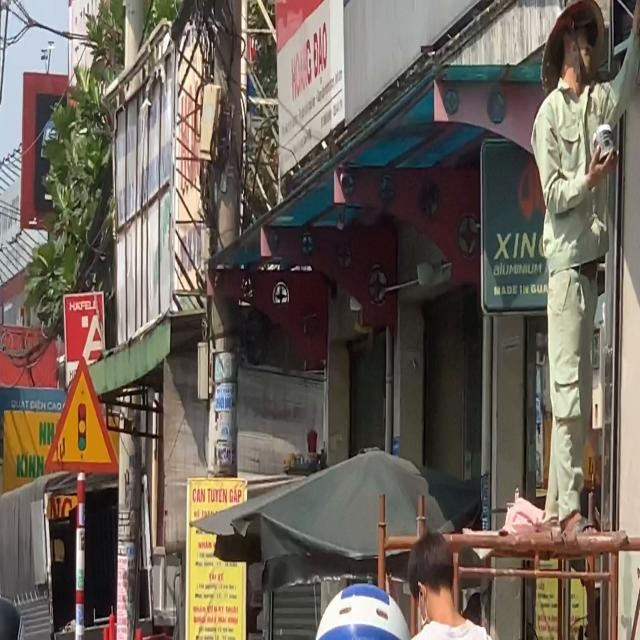bien_nguy_hiem: (38, 344, 125, 483)
